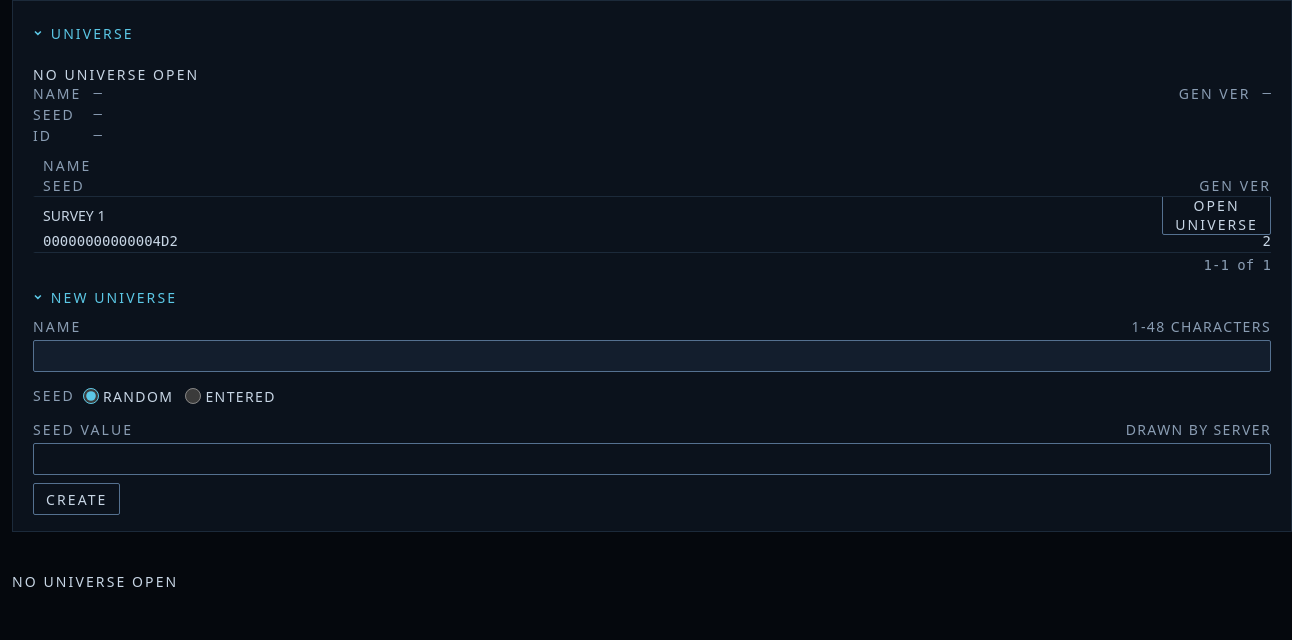
Test: GalaxyMapPanel › states the frame and the scale once, since both pictures are at one scale
Click the button with aria-label "Open universe SURVEY 1". click: x=1217, y=215
box: [1162,195,1271,235]
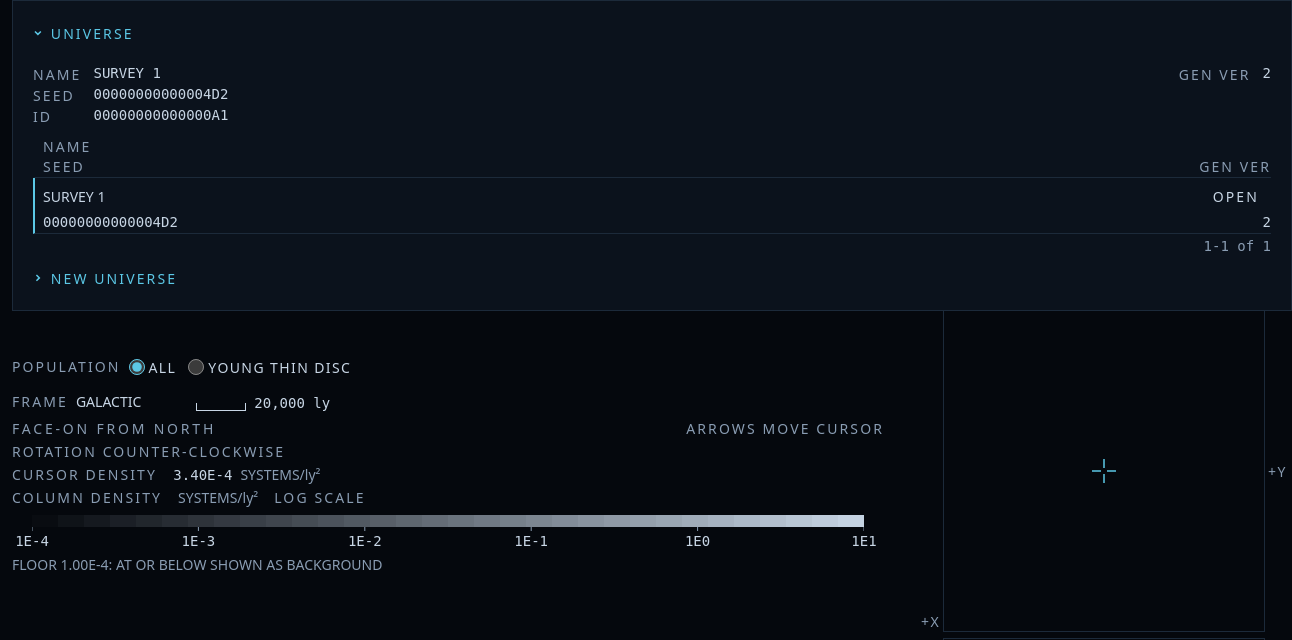
expect the text "FRAME" is shown once: met, box [12,392,68,411]
expect the element showing "FRAME GALACTIC" is shown: met, box [12,392,141,411]
expect the text "20,000 ly" is shown once: met, box [254,395,330,411]
